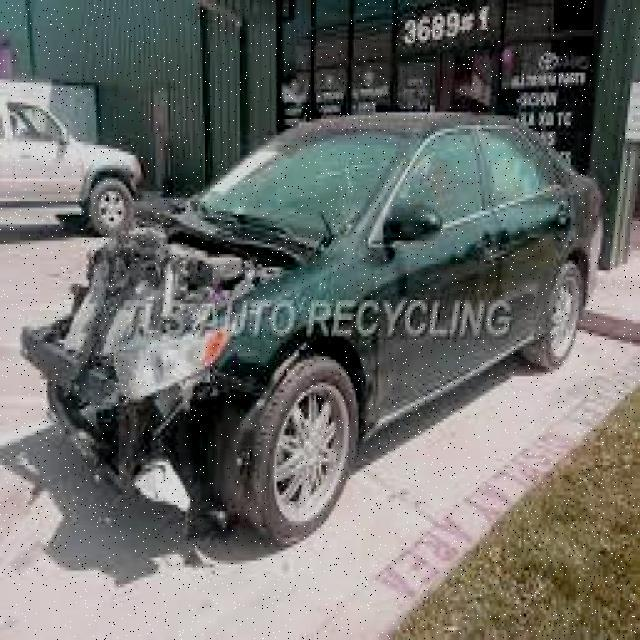car damage: (20, 199, 345, 548)
